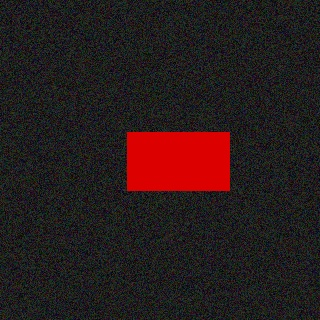red_barrel: (128, 133, 230, 190)
